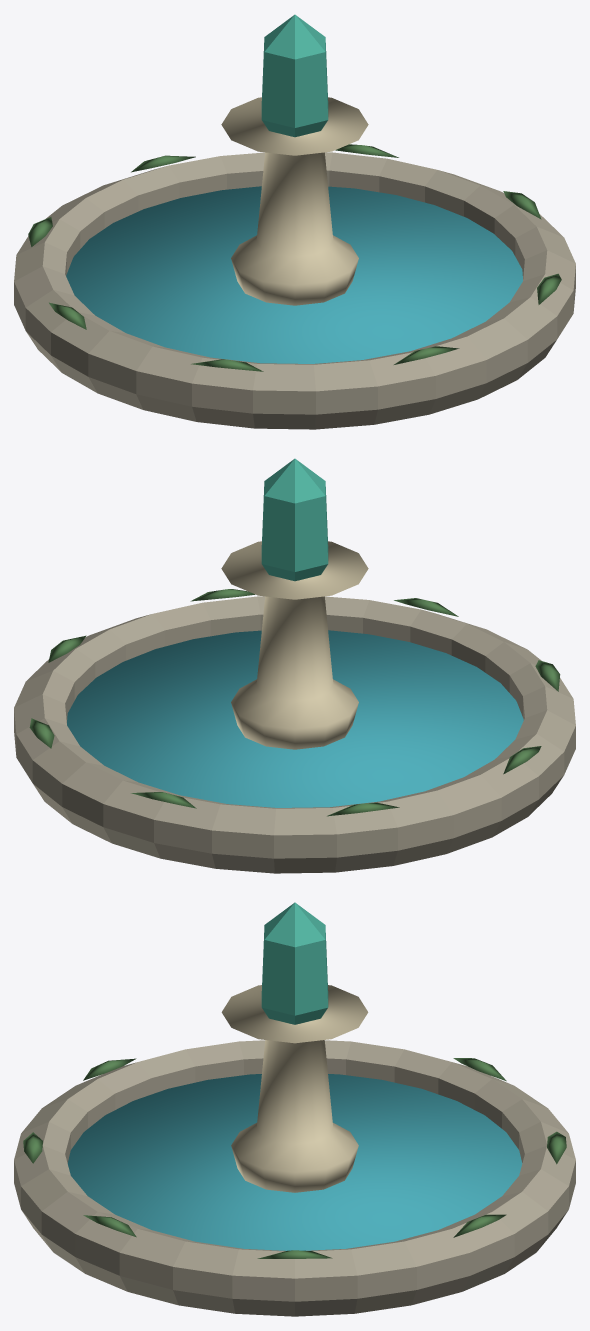
3 renders of one model, top to bottom at view 1: azimuth 30°, elevation 25°; view 2: azimuth 150°, elevation 25°; view 3: azimuth 270°, elevation 25°, orthographic.
Visible parts, largest first — view 1: SpringBasin.002, SpringWater.002, SpringPedestal.002, SourceCrystal.002; view 2: SpringBasin.002, SpringWater.002, SpringPedestal.002, SourceCrystal.002; view 3: SpringBasin.002, SpringWater.002, SpringPedestal.002, SourceCrystal.002.
Boxes of the visible parts, <box> form: SpringBasin.002: <box>14,152,575,429</box>; SpringWater.002: <box>66,186,522,363</box>; SpringPedestal.002: <box>221,97,368,305</box>; SourceCrystal.002: <box>261,14,328,137</box>; SpringBasin.002: <box>14,596,575,873</box>; SpringWater.002: <box>67,630,523,807</box>; SpringPedestal.002: <box>221,541,368,749</box>; SourceCrystal.002: <box>261,458,328,581</box>; SpringBasin.002: <box>14,1040,575,1316</box>; SpringWater.002: <box>67,1074,522,1250</box>; SpringPedestal.002: <box>221,985,368,1192</box>; SourceCrystal.002: <box>261,902,328,1024</box>.
Size of the model in its own units: 8.8 by 5.2 by 8.8.
